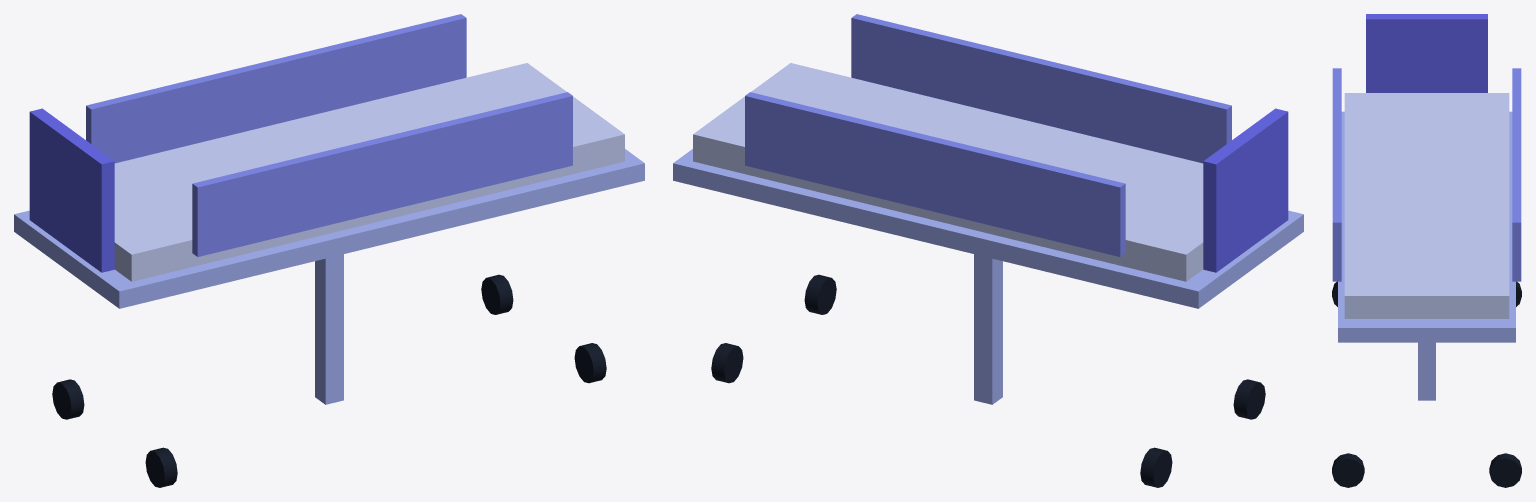
File: parametric-source.glb
3 views of the same model, side by side, from view 1: azimuth 30°, elevation 25°; view 2: azimuth 150°, elevation 25°; view 3: azimuth 270°, elevation 25° (orthographic). The views are drawn at different scales.
Visible parts, largest first — view 1: openclinxr.equipment.pediatric_stretcher_equipment.mattress_, openclinxr.equipment.pediatric_stretcher_equipment.rail_righ, openclinxr.equipment.pediatric_stretcher_equipment.rail_left, openclinxr.equipment.pediatric_stretcher_equipment.frame, openclinxr.equipment.pediatric_stretcher_equipment.push_bar, openclinxr.equipment.pediatric_stretcher_equipment.column, openclinxr.equipment.pediatric_stretcher_equipment.caster_1, openclinxr.equipment.pediatric_stretcher_equipment.caster_3, openclinxr.equipment.pediatric_stretcher_equipment.caster_0, openclinxr.equipment.pediatric_stretcher_equipment.caster_2; view 2: openclinxr.equipment.pediatric_stretcher_equipment.mattress_, openclinxr.equipment.pediatric_stretcher_equipment.rail_left, openclinxr.equipment.pediatric_stretcher_equipment.rail_righ, openclinxr.equipment.pediatric_stretcher_equipment.frame, openclinxr.equipment.pediatric_stretcher_equipment.push_bar, openclinxr.equipment.pediatric_stretcher_equipment.column, openclinxr.equipment.pediatric_stretcher_equipment.caster_3, openclinxr.equipment.pediatric_stretcher_equipment.caster_1, openclinxr.equipment.pediatric_stretcher_equipment.caster_0, openclinxr.equipment.pediatric_stretcher_equipment.caster_2; view 3: openclinxr.equipment.pediatric_stretcher_equipment.mattress_, openclinxr.equipment.pediatric_stretcher_equipment.push_bar, openclinxr.equipment.pediatric_stretcher_equipment.frame, openclinxr.equipment.pediatric_stretcher_equipment.rail_left, openclinxr.equipment.pediatric_stretcher_equipment.rail_righ, openclinxr.equipment.pediatric_stretcher_equipment.column, openclinxr.equipment.pediatric_stretcher_equipment.caster_1, openclinxr.equipment.pediatric_stretcher_equipment.caster_3.
Boxes of the visible parts, x1,y1,x2,y2 form: openclinxr.equipment.pediatric_stretcher_equipment.mattress_: (114, 63, 624, 281); openclinxr.equipment.pediatric_stretcher_equipment.rail_righ: (192, 92, 572, 256); openclinxr.equipment.pediatric_stretcher_equipment.rail_left: (86, 14, 466, 163); openclinxr.equipment.pediatric_stretcher_equipment.frame: (14, 149, 644, 308); openclinxr.equipment.pediatric_stretcher_equipment.push_bar: (29, 108, 114, 272); openclinxr.equipment.pediatric_stretcher_equipment.column: (315, 254, 343, 404); openclinxr.equipment.pediatric_stretcher_equipment.caster_1: (481, 274, 513, 314); openclinxr.equipment.pediatric_stretcher_equipment.caster_3: (574, 343, 606, 383); openclinxr.equipment.pediatric_stretcher_equipment.caster_0: (52, 379, 84, 419); openclinxr.equipment.pediatric_stretcher_equipment.caster_2: (145, 447, 177, 487); openclinxr.equipment.pediatric_stretcher_equipment.mattress_: (693, 63, 1203, 281); openclinxr.equipment.pediatric_stretcher_equipment.rail_left: (745, 92, 1125, 256); openclinxr.equipment.pediatric_stretcher_equipment.rail_righ: (851, 14, 1231, 163); openclinxr.equipment.pediatric_stretcher_equipment.frame: (673, 149, 1303, 308); openclinxr.equipment.pediatric_stretcher_equipment.push_bar: (1203, 108, 1288, 272); openclinxr.equipment.pediatric_stretcher_equipment.column: (974, 254, 1002, 404); openclinxr.equipment.pediatric_stretcher_equipment.caster_3: (804, 274, 836, 314); openclinxr.equipment.pediatric_stretcher_equipment.caster_1: (711, 343, 743, 383); openclinxr.equipment.pediatric_stretcher_equipment.caster_0: (1140, 447, 1172, 487); openclinxr.equipment.pediatric_stretcher_equipment.caster_2: (1233, 379, 1265, 419); openclinxr.equipment.pediatric_stretcher_equipment.mattress_: (1344, 93, 1509, 318); openclinxr.equipment.pediatric_stretcher_equipment.push_bar: (1366, 14, 1487, 92); openclinxr.equipment.pediatric_stretcher_equipment.frame: (1338, 111, 1515, 342); openclinxr.equipment.pediatric_stretcher_equipment.rail_left: (1512, 68, 1521, 281); openclinxr.equipment.pediatric_stretcher_equipment.rail_righ: (1332, 68, 1341, 281); openclinxr.equipment.pediatric_stretcher_equipment.column: (1418, 342, 1435, 400); openclinxr.equipment.pediatric_stretcher_equipment.caster_1: (1489, 453, 1521, 487); openclinxr.equipment.pediatric_stretcher_equipment.caster_3: (1332, 453, 1364, 487).
Bounding box in the file's own units: 1.42 × 0.84 × 0.5268.
